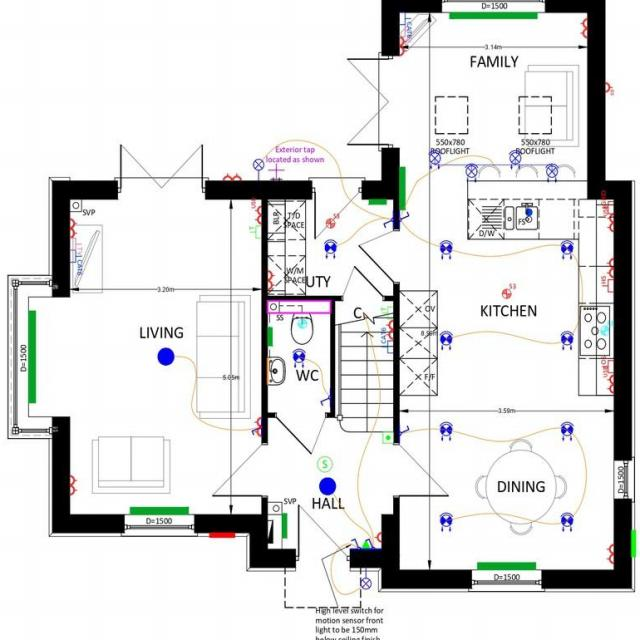BT Entry Point: (362, 536, 370, 550)
Cat 6 Data Socket: (70, 247, 85, 276), (374, 338, 396, 356), (399, 11, 416, 26)
Ceiling Mounted Continuous Extract Fan With Boost Mode Activated By Light Switch: (288, 313, 312, 334)
Ceiling Mounted Continuous Extract Fan With Local Boost Switch: (490, 271, 524, 303), (322, 201, 347, 231)
Co-Ax TV Socket: (400, 22, 420, 36), (69, 235, 89, 249)
Consumer Unit: (266, 516, 278, 545)
Double Socket: (70, 464, 86, 502), (598, 538, 618, 568), (69, 214, 90, 236), (268, 262, 282, 292), (600, 250, 614, 279), (574, 16, 590, 41), (376, 317, 394, 338), (401, 34, 413, 62), (217, 170, 247, 181)
Electric Meter Box: (26, 303, 40, 409), (208, 528, 235, 544)
External Wall Light: (355, 566, 380, 596), (251, 154, 266, 180)
Gas Meter Box: (633, 528, 640, 563)
Grid Switch: (593, 198, 616, 213)
Hob Switch: (595, 274, 617, 298)
Light Switch: (398, 422, 419, 441), (399, 209, 416, 228), (382, 212, 394, 234), (348, 535, 361, 549), (366, 534, 375, 548)
Low Energy Downlighter: (433, 414, 461, 451), (548, 234, 580, 264), (427, 506, 462, 533), (287, 343, 316, 372), (547, 505, 578, 532), (551, 414, 579, 443), (316, 234, 342, 264), (560, 322, 578, 357), (439, 326, 457, 361), (436, 237, 457, 266)
Low Energy Pendant Light: (307, 472, 344, 495), (151, 339, 177, 370)
Mains Wired Smoke Detector: (314, 451, 336, 472)
Outside Socket: (604, 80, 618, 101)
Outside Tap: (265, 157, 296, 180)
Oven Switch: (598, 351, 618, 372)
Programmable Room Thermostat: (381, 429, 397, 450)
Radiator: (444, 8, 546, 27), (124, 496, 192, 516), (470, 556, 552, 570), (399, 160, 412, 208), (248, 409, 264, 442), (282, 510, 296, 540), (363, 198, 392, 210), (266, 322, 277, 352), (318, 385, 330, 410), (252, 421, 264, 439)
Recirculating Extractor Fan: (598, 307, 614, 338)
Single Socket: (372, 526, 385, 545)
Telephone Socket: (242, 221, 264, 246), (372, 301, 396, 317)
Track Light: (419, 140, 570, 184)
USB Double Socket: (244, 198, 266, 223), (603, 372, 617, 401), (604, 212, 617, 239)
Water Entry Position: (521, 204, 536, 220)
